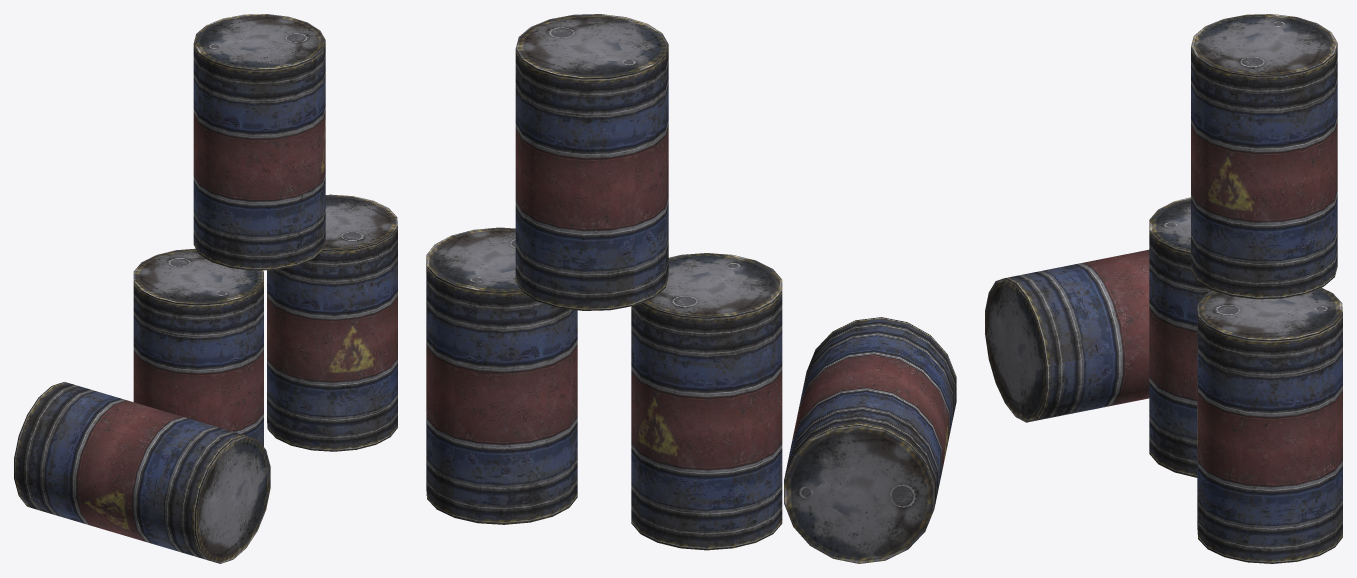
File: Barrel.FBX
The picture shows the model from 3 angles, left to right: view 1: azimuth 30°, elevation 25°; view 2: azimuth 150°, elevation 25°; view 3: azimuth 270°, elevation 25°; orthographic projection. The views are drawn at different scales.
Parts seen in each view (by area): view 1: Barrel-2, Barrel-4, Barrel-1, Barrel-3; view 2: Barrel-2, Barrel-3, Barrel-1, Barrel-4; view 3: Barrel-2, Barrel-1, Barrel-4, Barrel-3.
Boxes of the visible parts, box(x1,y1,x2,y2) form: Barrel-2: box(193, 14, 325, 270); Barrel-4: box(14, 382, 270, 563); Barrel-1: box(267, 194, 397, 451); Barrel-3: box(133, 248, 263, 446); Barrel-2: box(515, 14, 668, 310); Barrel-3: box(631, 253, 782, 550); Barrel-1: box(426, 227, 577, 524); Barrel-4: box(784, 317, 956, 563); Barrel-2: box(1191, 14, 1337, 299); Barrel-1: box(1197, 287, 1342, 563); Barrel-4: box(985, 249, 1149, 422); Barrel-3: box(1149, 197, 1212, 477).
Size of the model in its own units: 65.37 by 62.31 by 45.21.
1 material, 1 textured.
